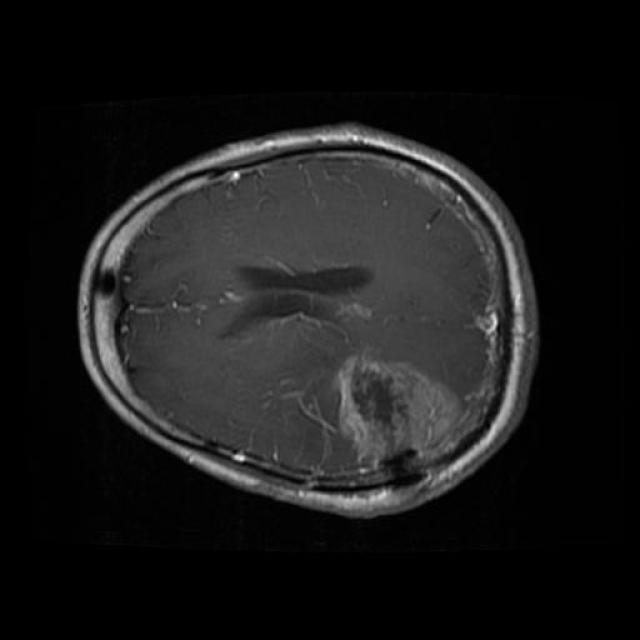Glioma: (335, 355, 459, 468)
